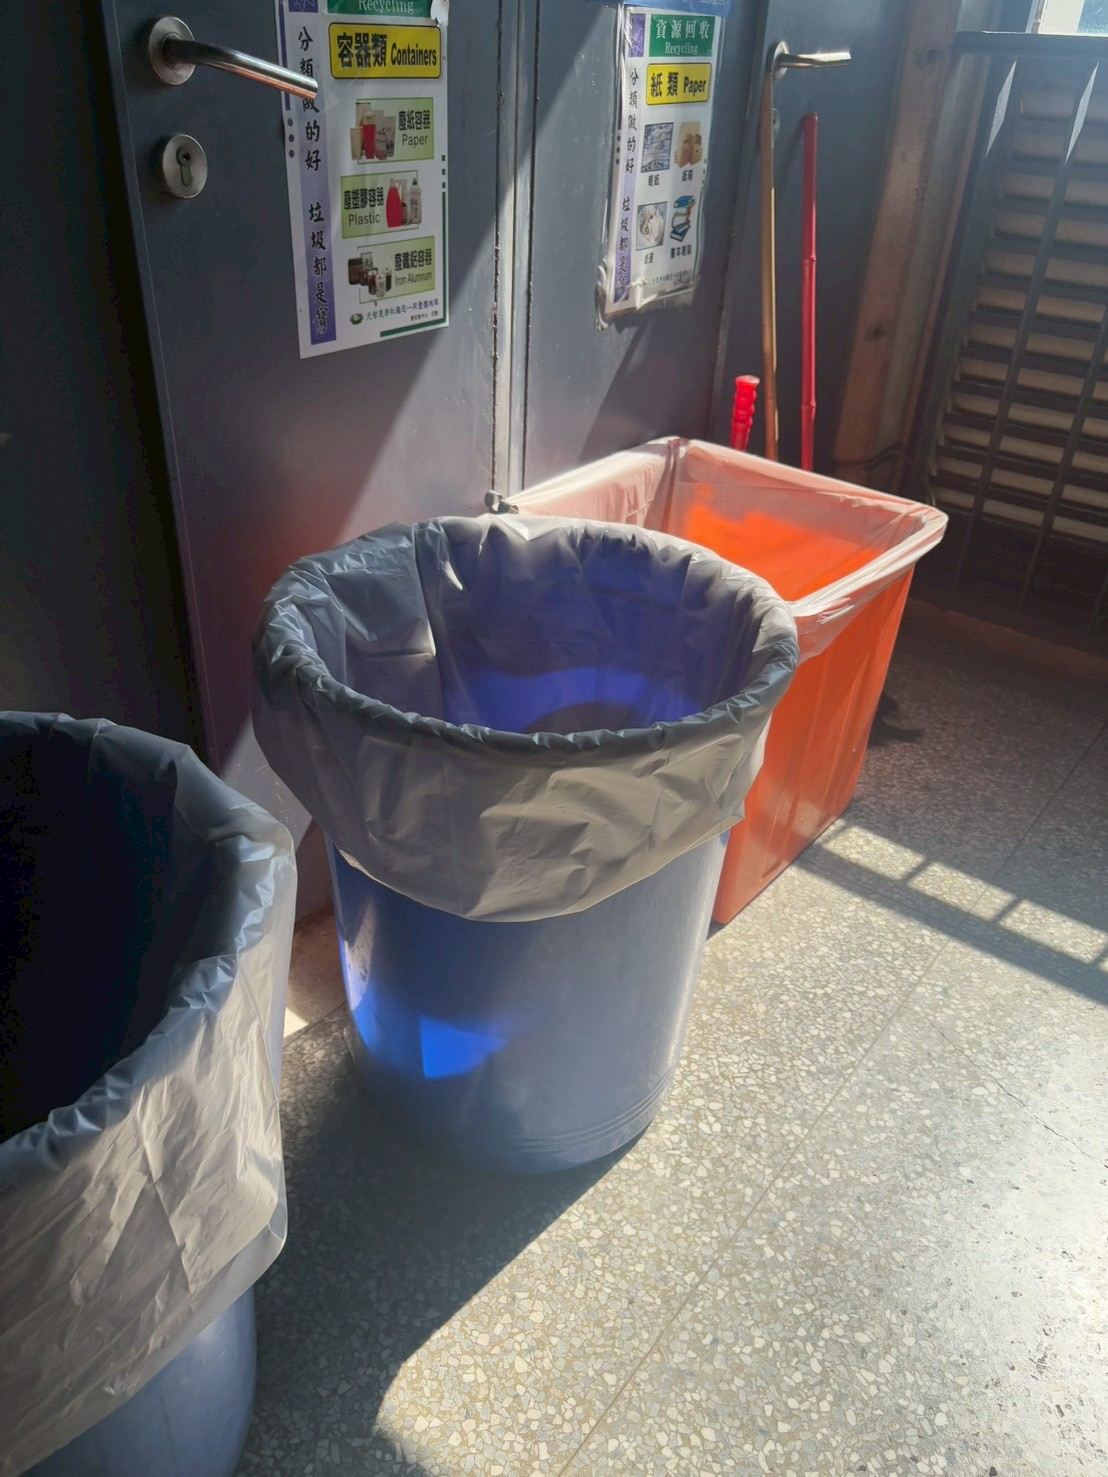normal_bin: (230, 495, 821, 1203)
